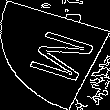M_E: (14, 24, 96, 86)
